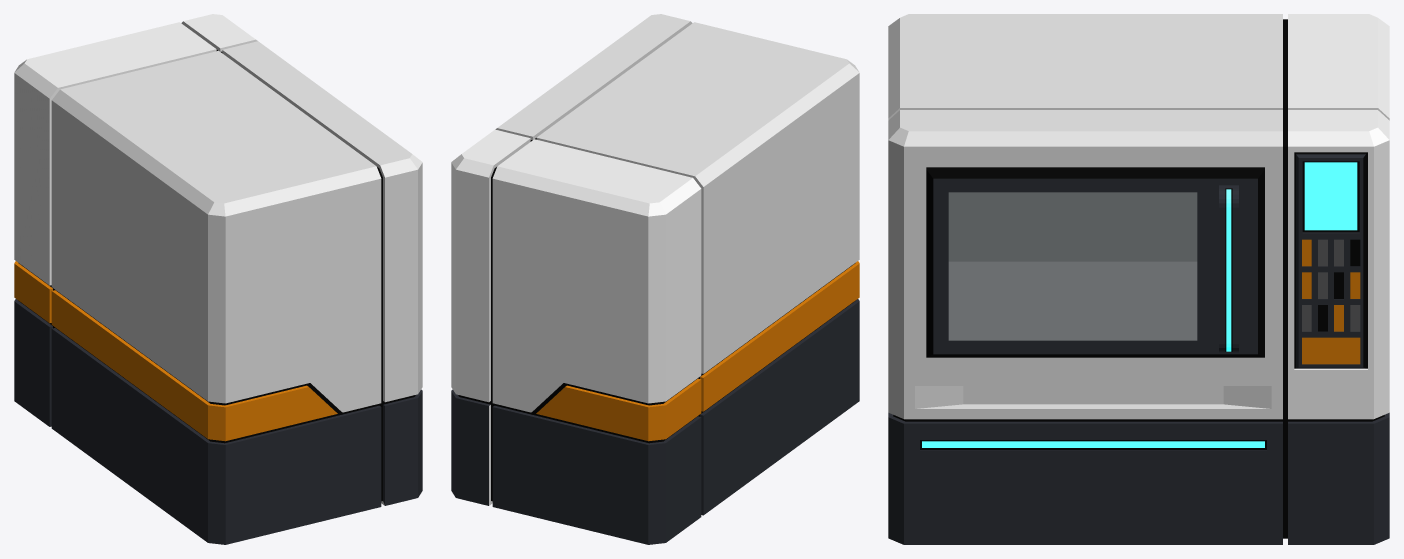
File: SM_Microwave.fbx
3 renders of one model, left to right at view 1: azimuth 30°, elevation 25°; view 2: azimuth 150°, elevation 25°; view 3: azimuth 270°, elevation 25°, orthographic. The views are drawn at different scales.
Parts seen in each view (by area): view 1: SM_Microwave; view 2: SM_Microwave; view 3: SM_Microwave.
Boxes of the visible parts, bbox=[...] form: SM_Microwave: bbox=[14, 14, 422, 544]; SM_Microwave: bbox=[451, 14, 859, 544]; SM_Microwave: bbox=[888, 14, 1389, 544].
Size of the model in its own units: 33.43 by 45 by 50.
